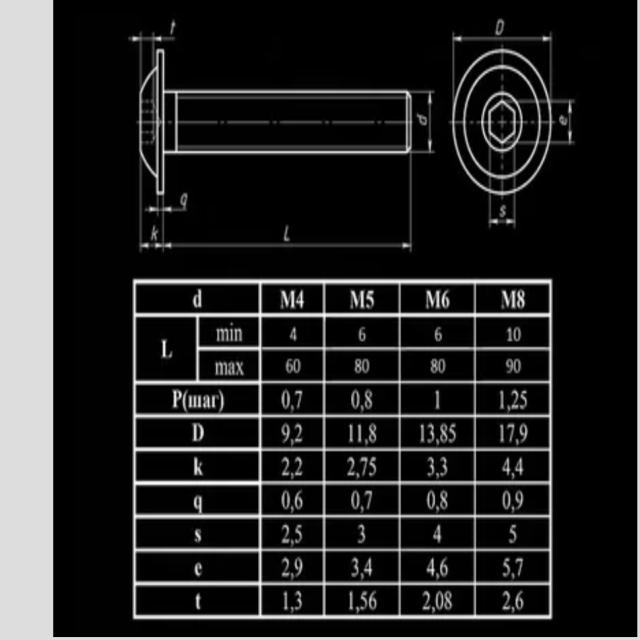marking_line: (166, 240, 410, 252), (454, 34, 550, 44), (426, 94, 435, 151), (146, 203, 187, 215), (128, 34, 174, 43), (566, 104, 574, 143), (141, 241, 162, 253), (491, 217, 512, 226)
numeric: (418, 420, 461, 448), (493, 421, 534, 445), (344, 589, 384, 613), (493, 385, 529, 411), (279, 553, 310, 582), (347, 423, 380, 446), (422, 590, 457, 611), (499, 456, 529, 480), (278, 388, 310, 410), (347, 457, 379, 479), (502, 589, 528, 615), (428, 486, 453, 513), (350, 487, 375, 513), (424, 556, 451, 580), (350, 555, 375, 580), (349, 388, 375, 412), (277, 424, 306, 445), (280, 522, 304, 547), (427, 454, 452, 478), (499, 556, 526, 578), (501, 489, 526, 511), (280, 489, 306, 510), (282, 588, 303, 613), (280, 458, 306, 478), (352, 355, 373, 377), (288, 322, 303, 348), (506, 357, 527, 375), (430, 321, 446, 344), (428, 355, 447, 374), (286, 356, 301, 380), (433, 521, 446, 546), (507, 322, 523, 342), (355, 322, 370, 342), (508, 523, 520, 548), (356, 520, 367, 547), (434, 389, 442, 409)
